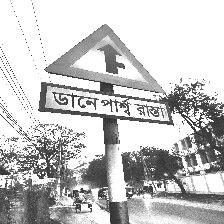Side-road-right: (41, 24, 173, 125)
